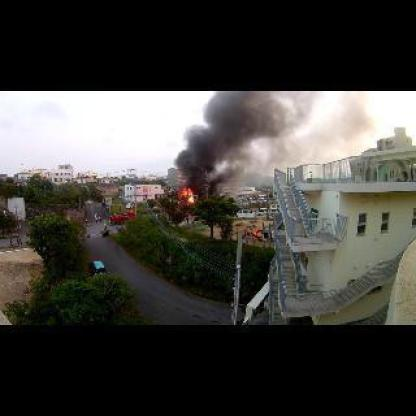fire: (180, 188, 192, 202)
